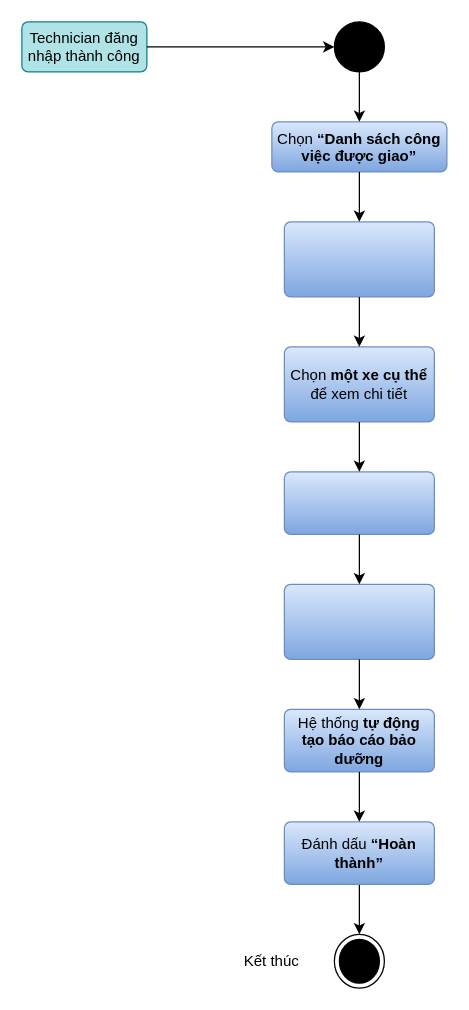
This 469x1010 diagram has some shape labels left out. Each missing label, with the box of its shape:
Cập nhật tình trạng xe, các hạng mục thực hiện, linh kiện thay thế: (283, 583, 434, 659)
Hệ thống hiển thị các xe cần bảo trì hôm nay: (283, 221, 434, 297)
Kỹ thuật viên tiến hành kiểm tra và bảo dưỡng: (283, 471, 434, 534)
